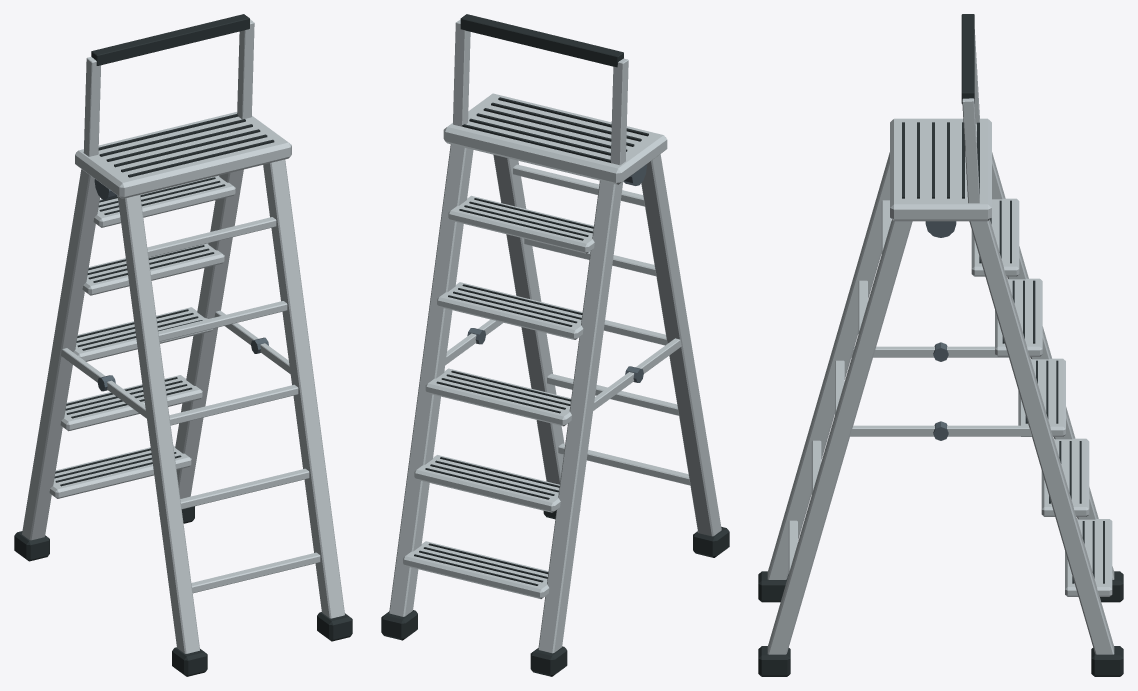
The model's file is 09_stepladder_metal.glb.
3 views of the same model, side by side, from view 1: azimuth 30°, elevation 25°; view 2: azimuth 150°, elevation 25°; view 3: azimuth 270°, elevation 25° (orthographic). The views are drawn at different scales.
Parts seen in each view (by area): view 1: 02_stepladder_metal; view 2: 02_stepladder_metal; view 3: 02_stepladder_metal.
Part boxes in pixels (x1,y1,x2,y2): 02_stepladder_metal: (14,14,352,676); 02_stepladder_metal: (381,14,729,676); 02_stepladder_metal: (758,14,1123,676).
Bounding box in the file's own units: 0.62 × 1.89 × 1.08.
